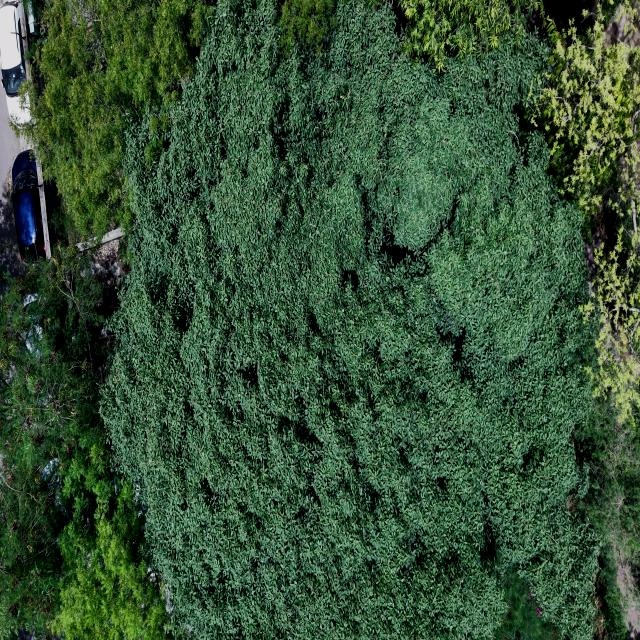VEGETATION_TREE: (0, 0, 639, 639), (102, 2, 598, 639), (523, 0, 639, 580), (0, 251, 170, 639), (527, 0, 639, 561), (532, 6, 639, 562), (20, 0, 206, 236), (0, 259, 104, 636), (50, 442, 171, 639), (528, 4, 639, 216), (577, 199, 639, 562), (582, 200, 639, 429), (576, 392, 639, 563), (399, 0, 541, 70), (594, 540, 636, 639), (495, 572, 557, 639), (276, 0, 333, 53)
